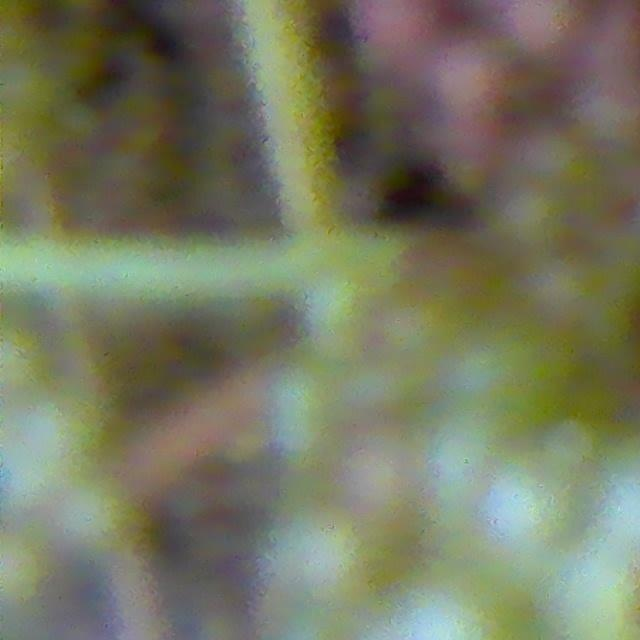SeaGrape: (263, 500, 377, 607), (357, 0, 464, 85), (477, 467, 572, 553), (53, 473, 142, 559), (264, 364, 339, 452), (420, 50, 501, 117), (501, 0, 578, 64), (0, 532, 50, 608), (418, 116, 489, 164)
